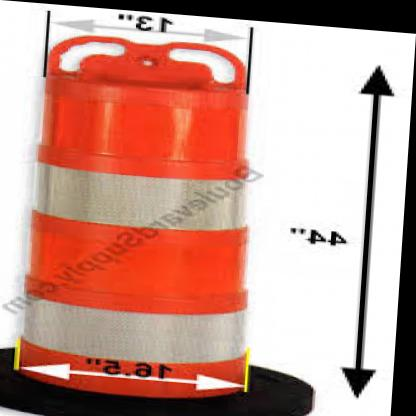obstacle: (10, 29, 257, 408)
